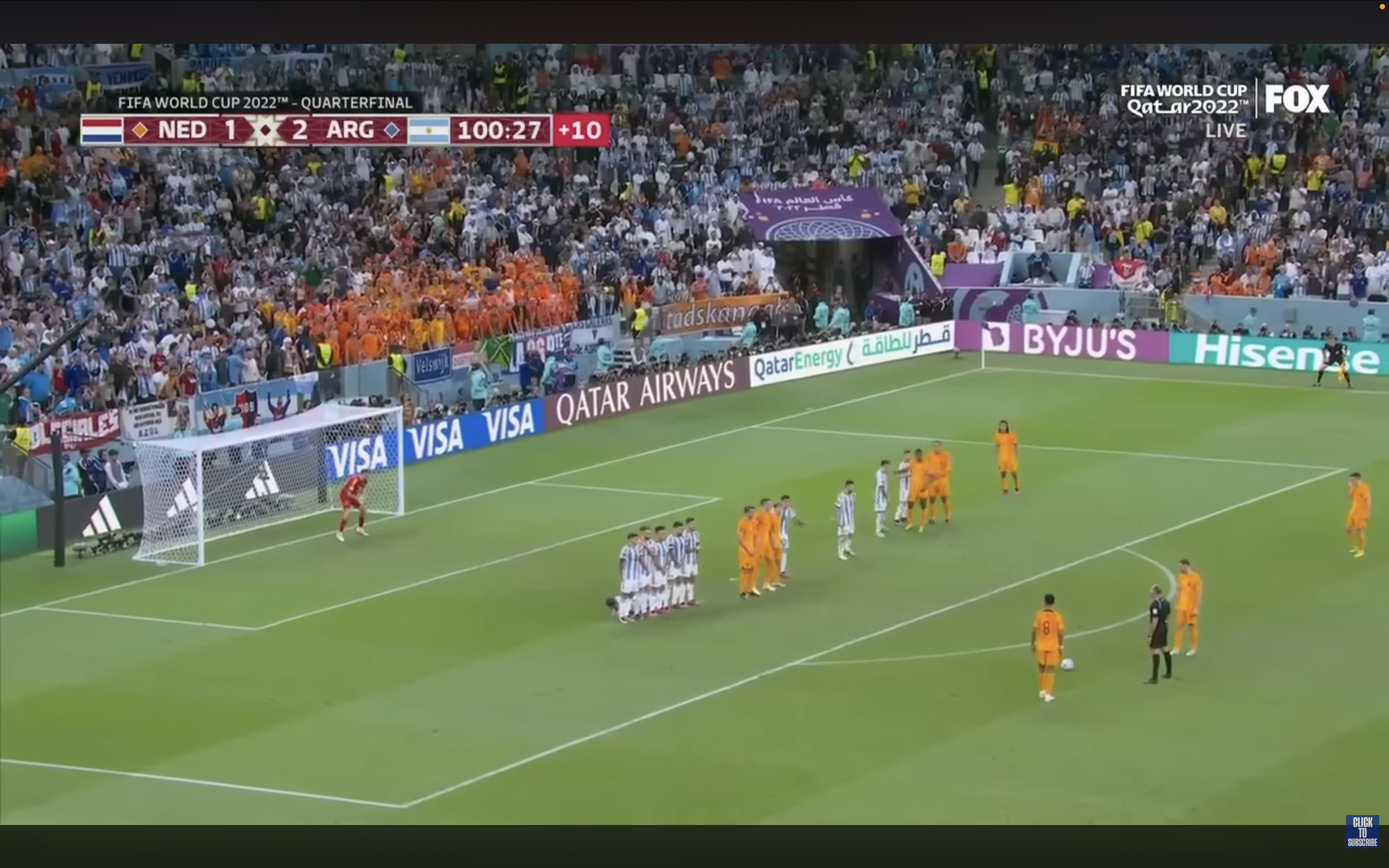ball: (1061, 658, 1074, 671)
goalkeeper: (335, 474, 368, 541)
player: (606, 517, 700, 623), (730, 495, 804, 598), (737, 499, 787, 599), (903, 441, 952, 532), (1030, 594, 1065, 702), (1173, 559, 1203, 656), (755, 498, 785, 591), (736, 506, 763, 599), (777, 495, 804, 580), (1346, 473, 1372, 557), (993, 421, 1020, 495), (835, 480, 856, 560), (873, 460, 891, 537)
referee: (1145, 586, 1172, 684), (1314, 336, 1352, 388)
